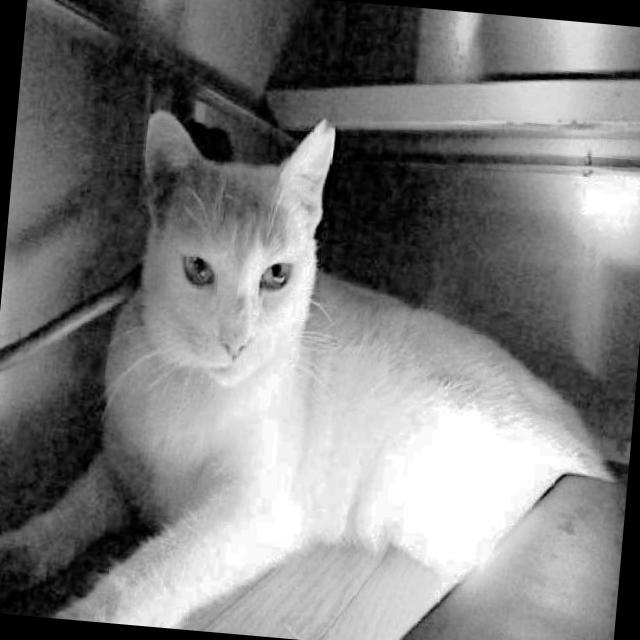Cat: (0, 87, 638, 640)
